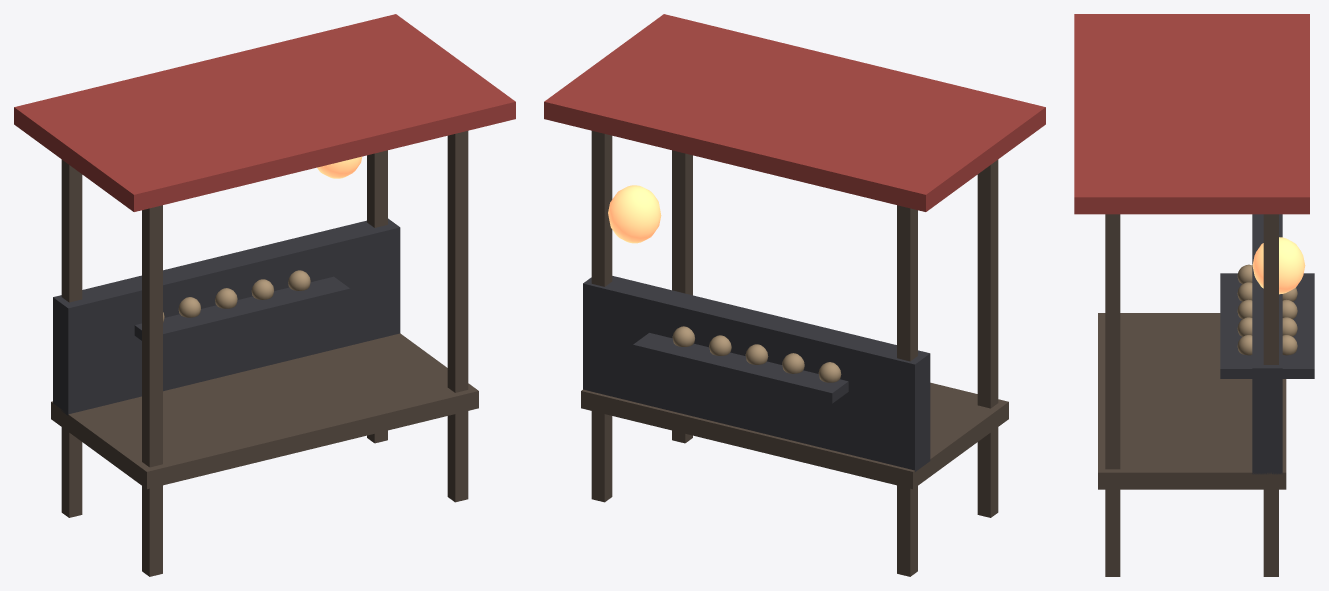
Rendered from prop_yatai_takoyaki.glb.
The picture shows the model from 3 angles, left to right: view 1: azimuth 30°, elevation 25°; view 2: azimuth 150°, elevation 25°; view 3: azimuth 270°, elevation 25°; orthographic projection.
Visible parts, largest first — view 1: yatai_takoyaki; view 2: yatai_takoyaki; view 3: yatai_takoyaki.
Boxes of the visible parts, x1,y1,x2,y2 form: yatai_takoyaki: (14, 14, 515, 576); yatai_takoyaki: (544, 14, 1045, 576); yatai_takoyaki: (1074, 14, 1314, 576).
Bounding box in the file's own units: 2.3 × 2.31 × 1.27.
